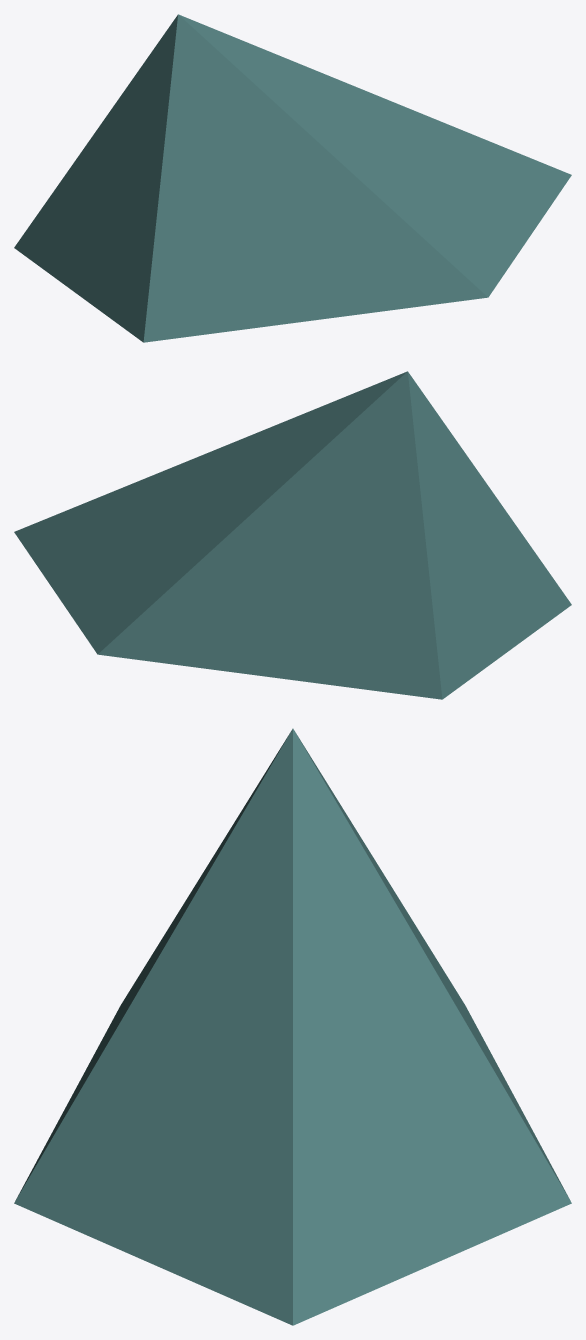
3 views of the same model, one above another, from view 1: azimuth 30°, elevation 25°; view 2: azimuth 150°, elevation 25°; view 3: azimuth 270°, elevation 25° (orthographic). The views are drawn at different scales.
Visible parts, largest first — view 1: 原森林散石_4.001; view 2: 原森林散石_4.001; view 3: 原森林散石_4.001.
Boxes of the visible parts, x1,y1,x2,y2 form: 原森林散石_4.001: [14, 14, 571, 342]; 原森林散石_4.001: [14, 371, 571, 699]; 原森林散石_4.001: [14, 728, 571, 1325].
Size of the model in its own units: 0.0814 by 0.0405 by 0.0599.
